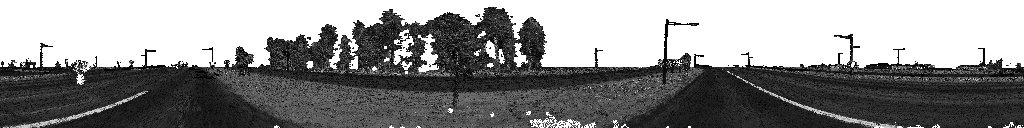light_pole: (662, 20, 698, 83), (834, 35, 859, 77), (40, 44, 52, 72), (202, 48, 215, 70), (141, 50, 155, 70), (893, 49, 904, 66), (594, 49, 602, 72), (741, 53, 752, 68), (694, 56, 705, 68), (282, 52, 288, 71), (978, 49, 984, 65)
traffic_pole: (69, 61, 92, 87), (224, 62, 229, 70)
